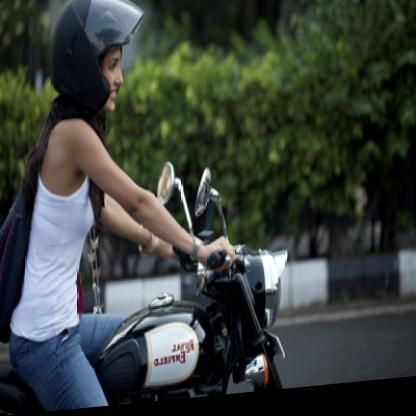With Helmet: (44, 0, 146, 123)
